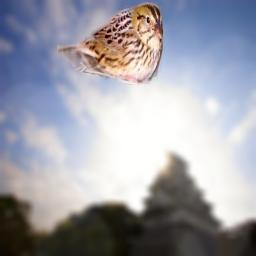Sparrow: (57, 2, 163, 85)
